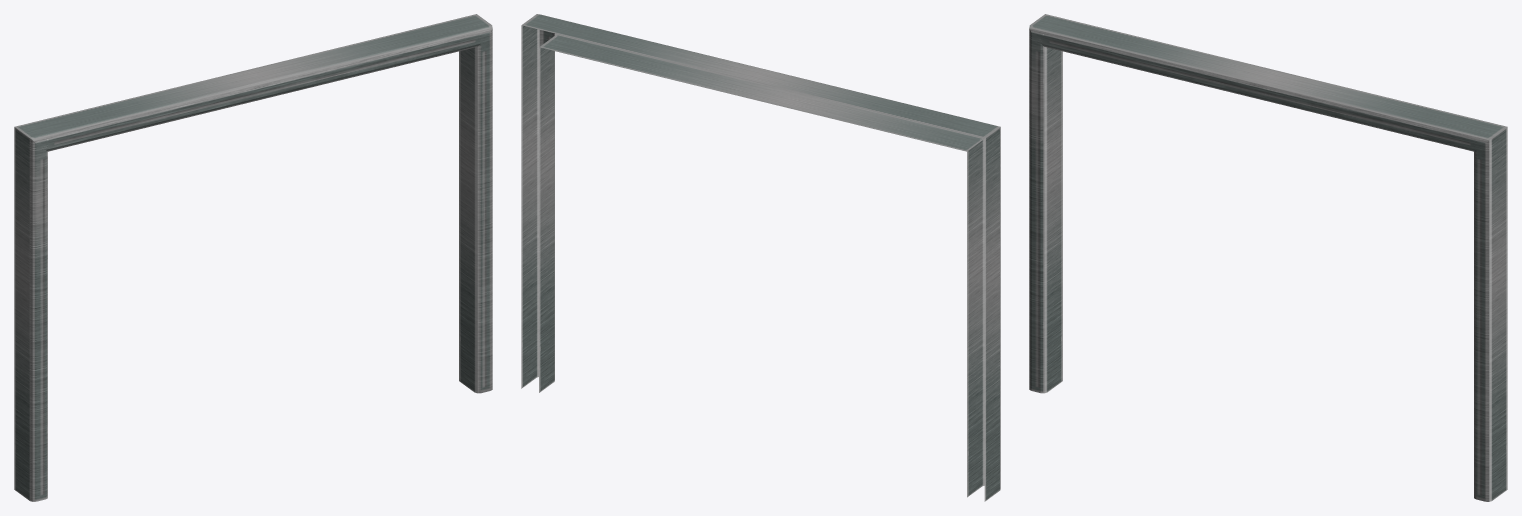
File: Door_001_Frame_001.fbx
3 renders of one model, left to right at view 1: azimuth 30°, elevation 25°; view 2: azimuth 150°, elevation 25°; view 3: azimuth 330°, elevation 25°, orthographic.
Parts seen in each view (by area): view 1: Door_001_Frame_001; view 2: Door_001_Frame_001; view 3: Door_001_Frame_001.
Part boxes in pixels (x1,y1,x2,y2): Door_001_Frame_001: [14, 14, 492, 501]; Door_001_Frame_001: [521, 14, 1000, 501]; Door_001_Frame_001: [1029, 14, 1507, 501].
Size of the model in its own units: 400 by 300 by 26.76.
